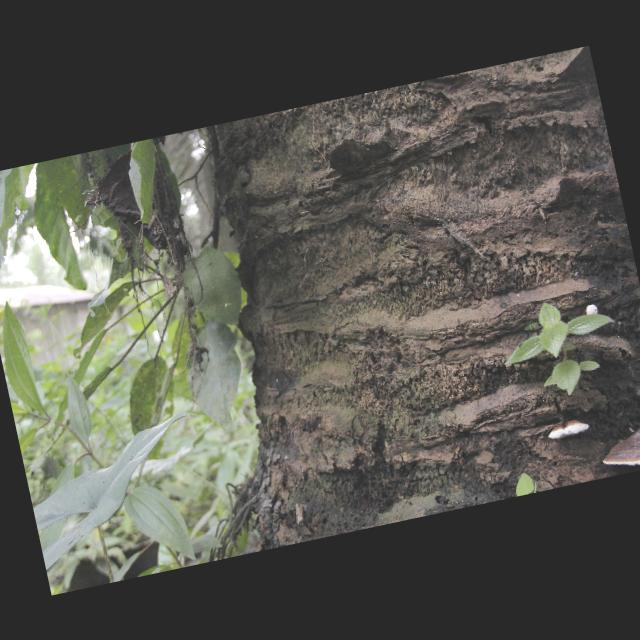ganoderma: (596, 414, 640, 475), (546, 417, 593, 443)
primordium: (586, 304, 600, 318)
